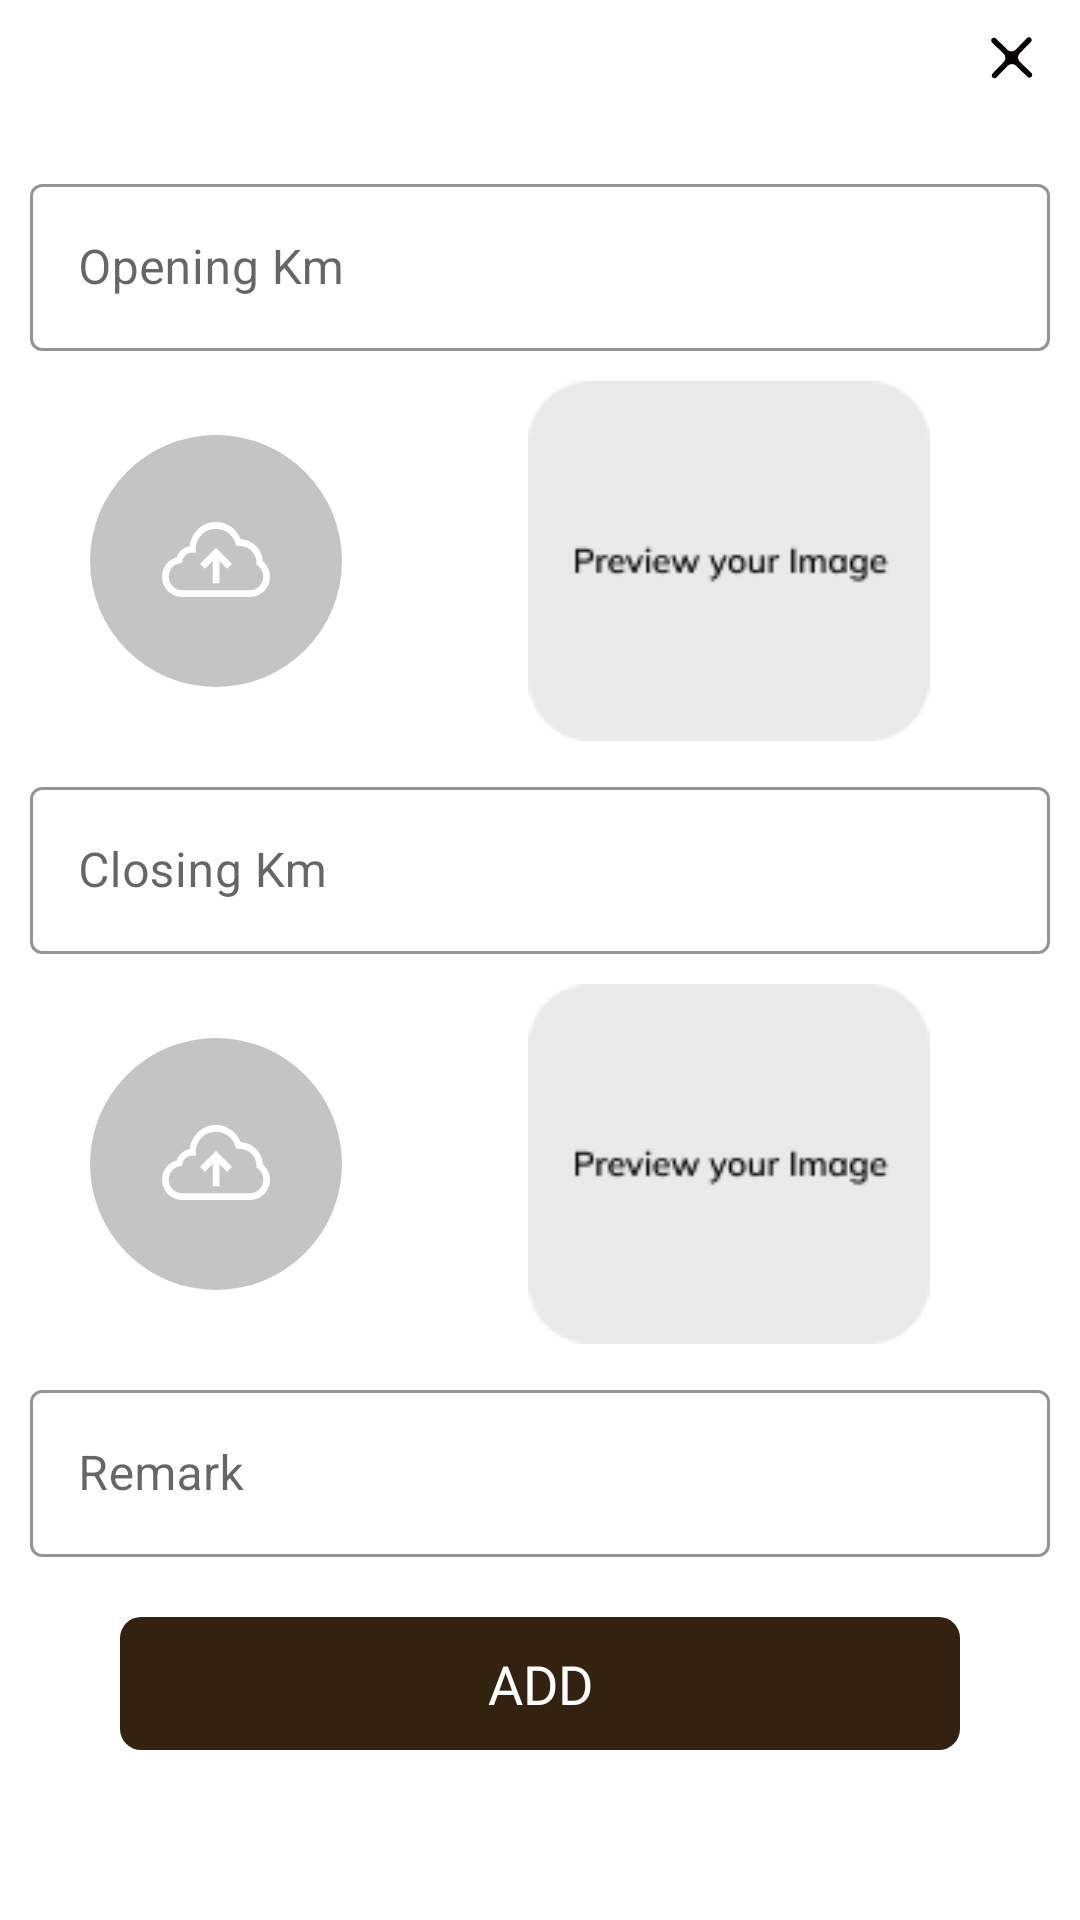

Icon click points for this 1080px x 1920px phone screenshot, format point (x, y):
cancel dialog: point (1012, 58)
upload: point (216, 561), point (216, 1164)
